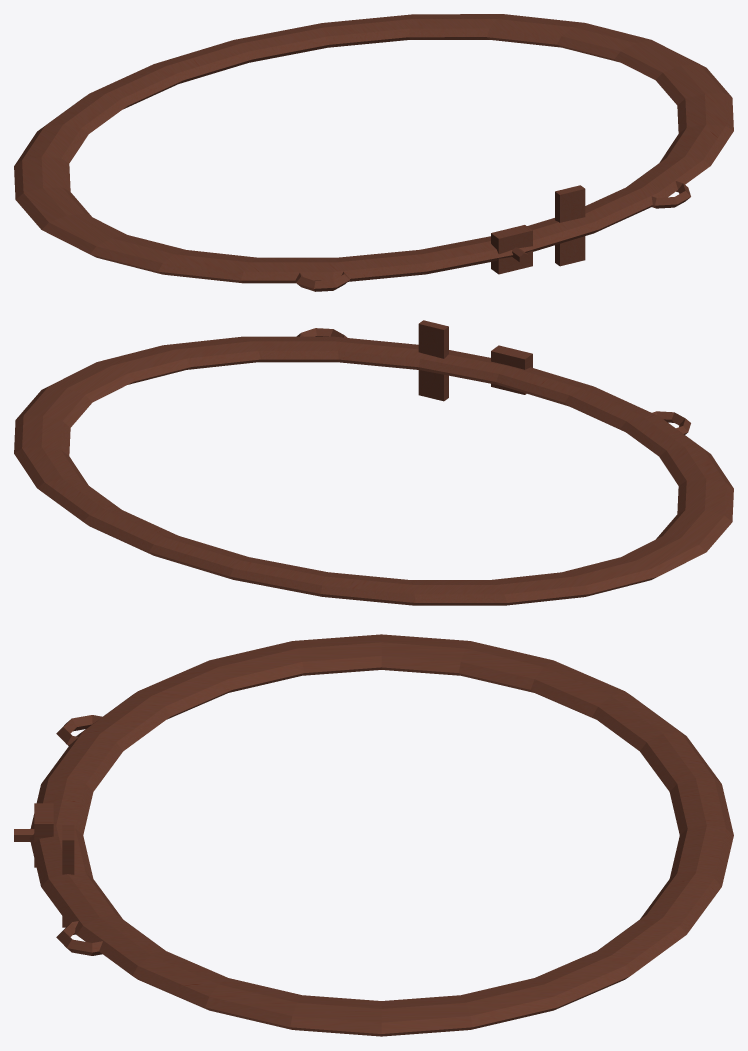
Rendered from belt.glb.
3 renders of one model, top to bottom at view 1: azimuth 30°, elevation 25°; view 2: azimuth 150°, elevation 25°; view 3: azimuth 270°, elevation 25°, orthographic. The views are drawn at different scales.
Parts seen in each view (by area): view 1: belt; view 2: belt; view 3: belt.
Part boxes in pixels (box(x1,y1,x2,y2)): belt: box(14, 14, 733, 291); belt: box(14, 320, 733, 605); belt: box(14, 634, 733, 1036).
Size of the model in its own units: 0.39 by 0.04 by 0.2988.
1 material, 1 textured.
